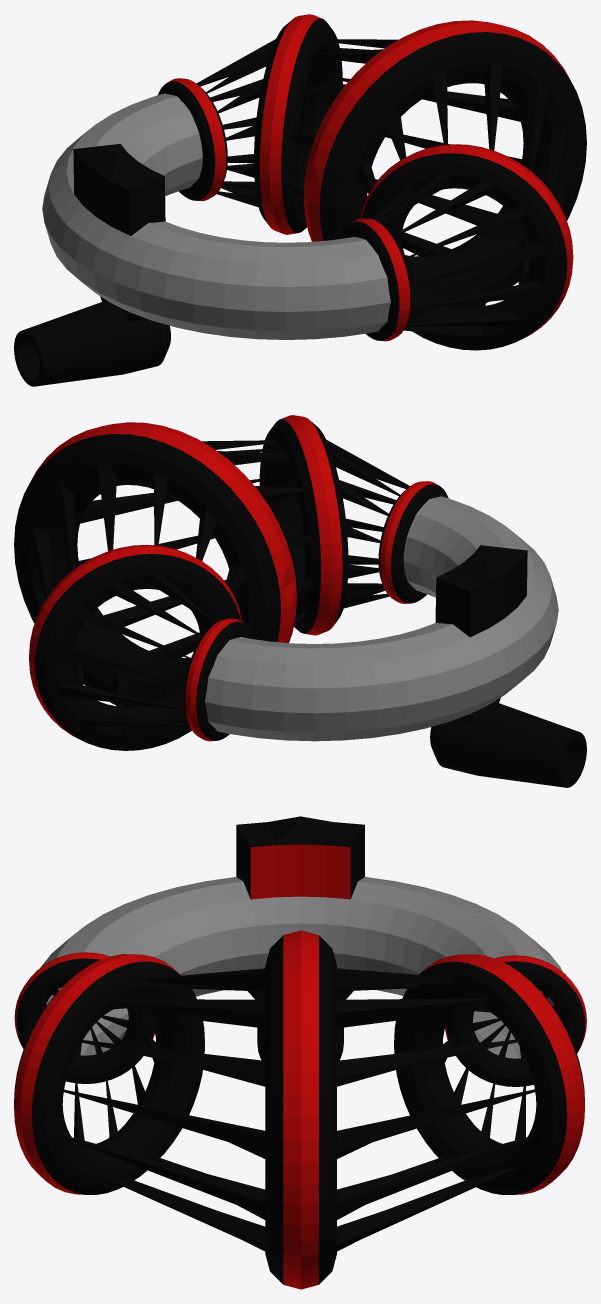
File: Minion J.fbx
3 views of the same model, one above another, from view 1: azimuth 30°, elevation 25°; view 2: azimuth 150°, elevation 25°; view 3: azimuth 270°, elevation 25° (orthographic). The views are drawn at different scales.
Parts seen in each view (by area): view 1: Torus; view 2: Torus; view 3: Torus.
Boxes of the visible parts, x1,y1,x2,y2 form: Torus: (14,14,586,386); Torus: (14,415,586,787); Torus: (14,816,586,1289).
Size of the model in its own units: 1009 by 500 by 797.
